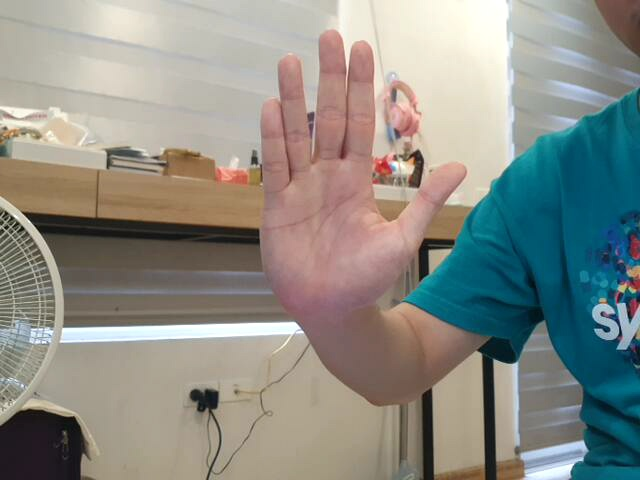LiveLong: (253, 27, 471, 329)
